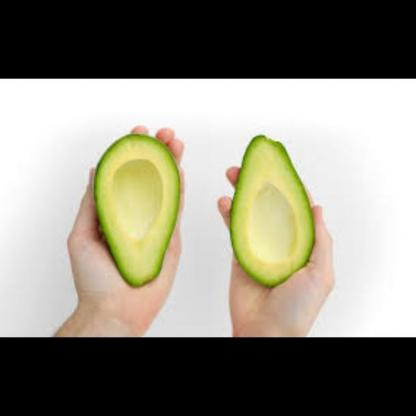avocado: (92, 126, 180, 313), (225, 121, 318, 288)
